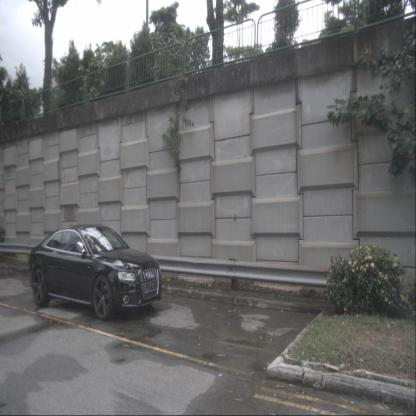vehicle-car: (28, 223, 162, 321)
